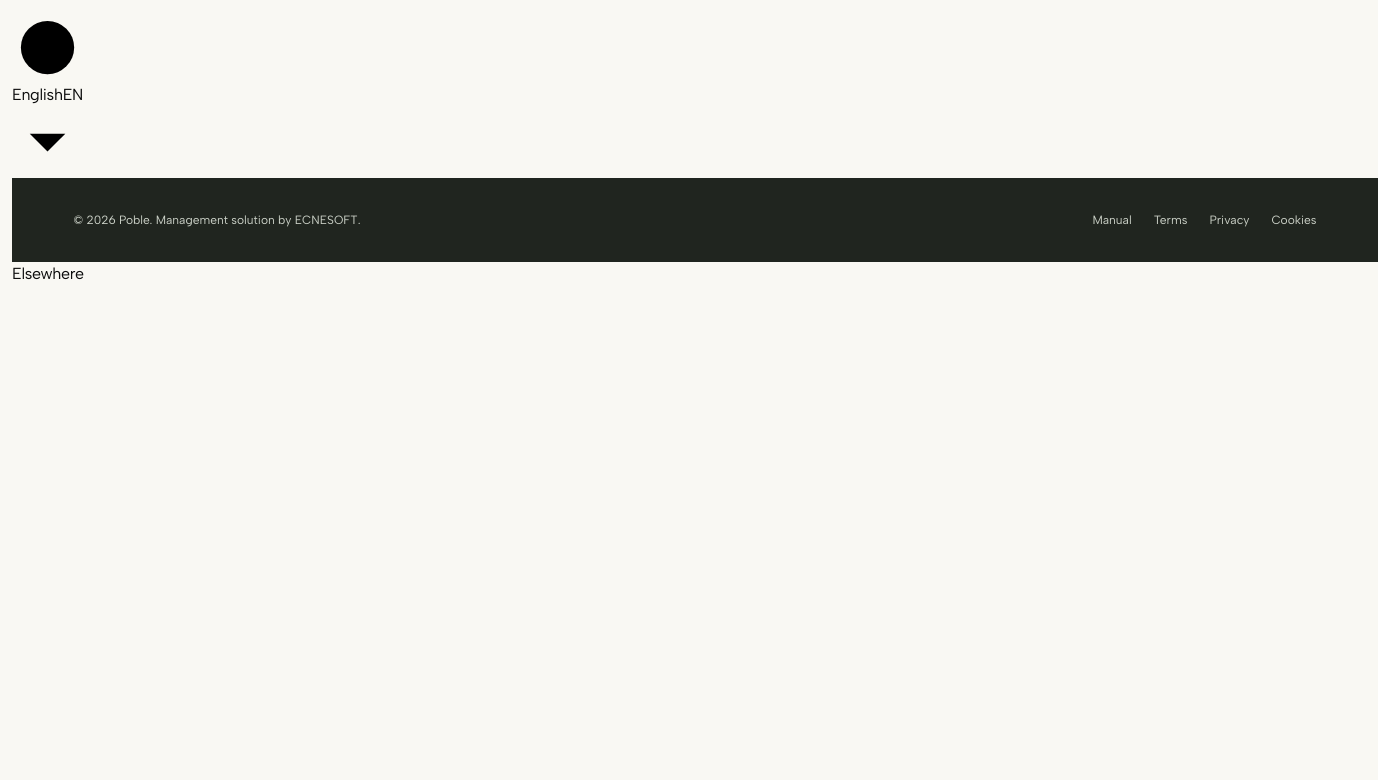
LanguageSelector › closes on Escape and returns focus to the button
Click the button with aria-label "Language: English". click: (48, 95)
box: 12,12 -> 83,178
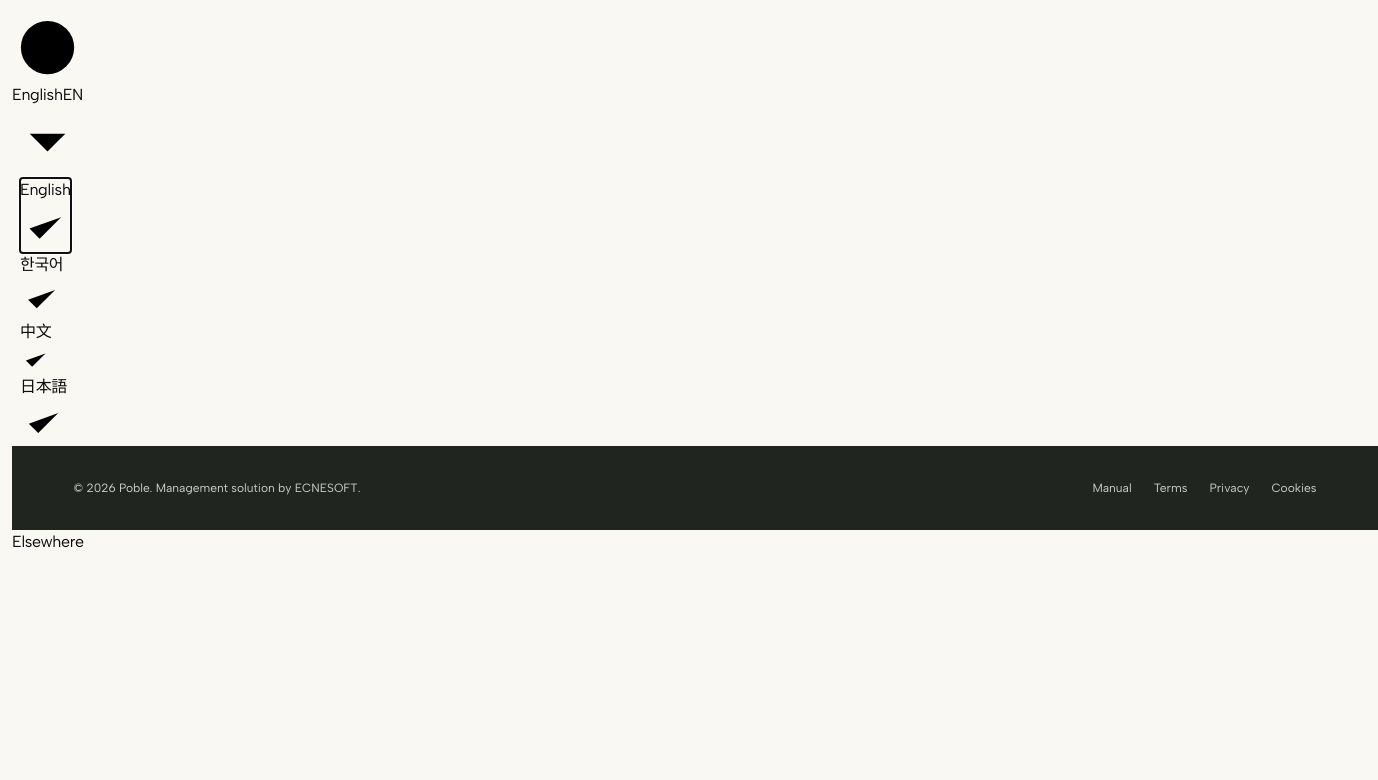
Press Escape
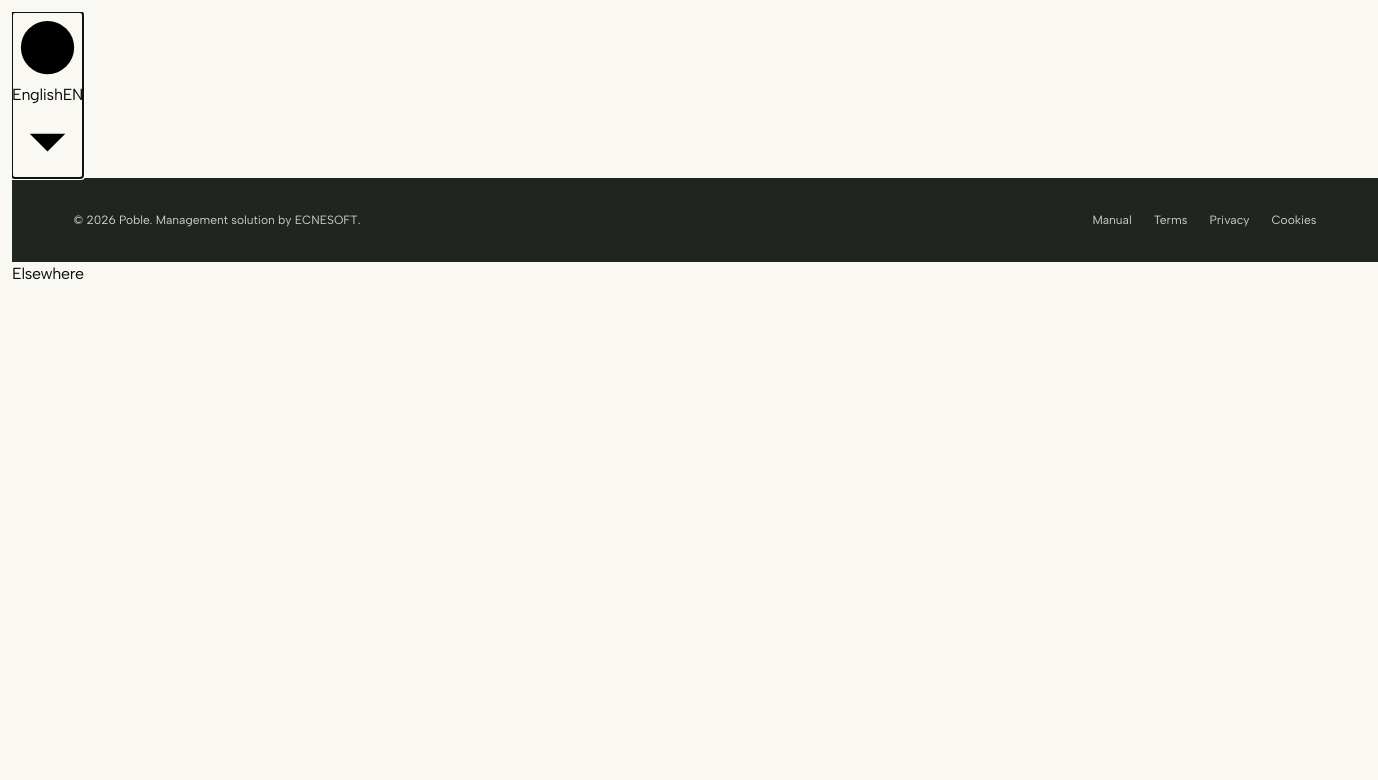
Check: the menu is gone
